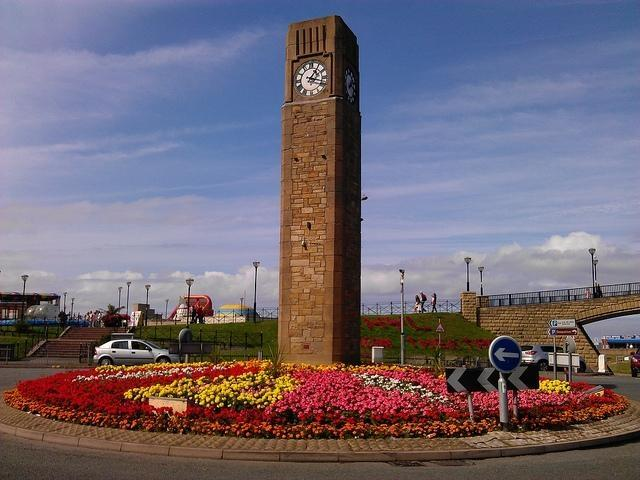car: (93, 340, 177, 368), (522, 344, 586, 373), (212, 305, 260, 317)
